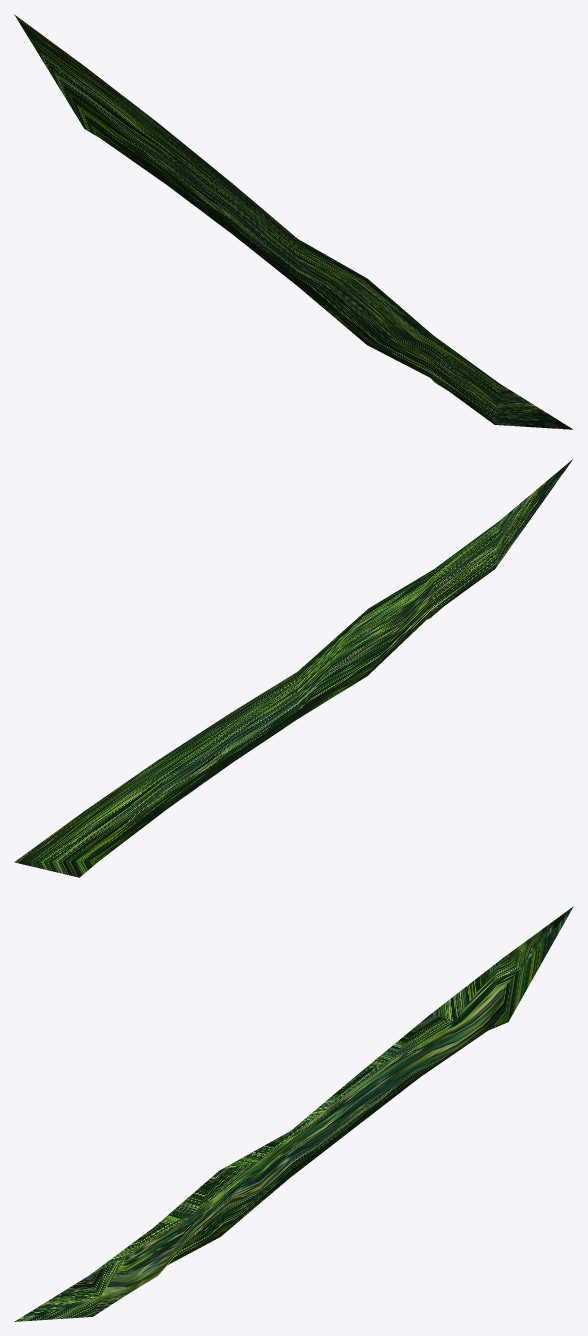
3 renders of one model, top to bottom at view 1: azimuth 30°, elevation 25°; view 2: azimuth 150°, elevation 25°; view 3: azimuth 330°, elevation 25°, orthographic.
Parts seen in each view (by area): view 1: algae_cube_Cube; view 2: algae_cube_Cube; view 3: algae_cube_Cube.
Boxes of the visible parts, x1,y1,x2,y2 form: algae_cube_Cube: [14, 14, 573, 429]; algae_cube_Cube: [14, 459, 572, 877]; algae_cube_Cube: [14, 906, 573, 1321].
Bounding box in the file's own units: 0.0102 × 0.2032 × 2.85.
